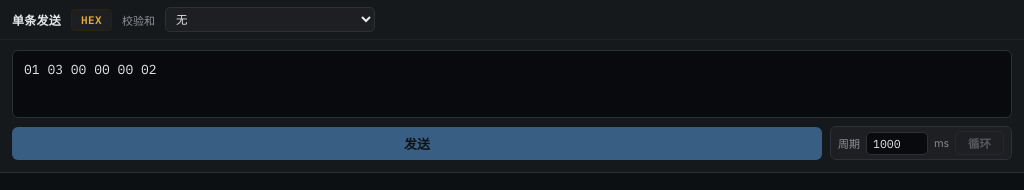
帧尾控件 › 选中校验和后即时显示计算结果，并追加到发送字节
Select "CRC-16/MODBUS" in the dropdown labelled "校验和" at (270, 20), box [165,7,375,32]
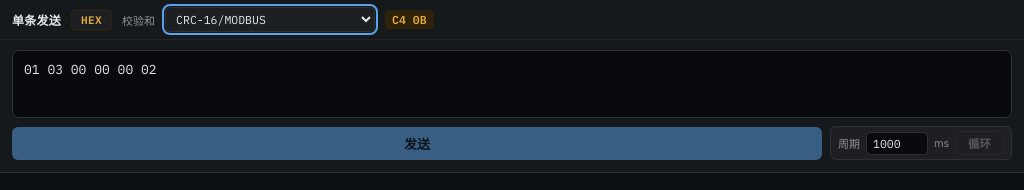
Result: the text "C4 0B" is shown at [385,10,434,29]
